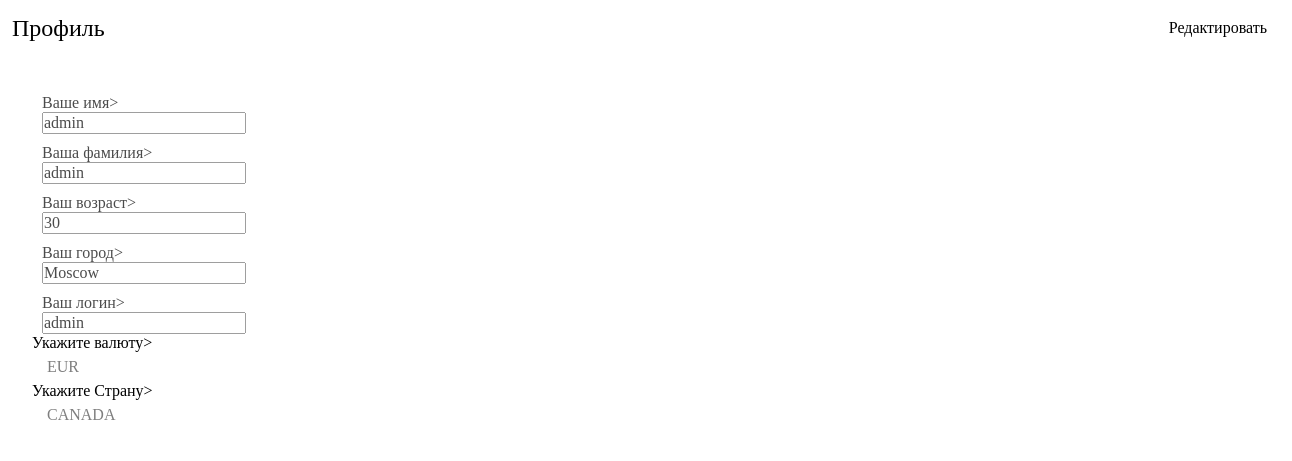
it: features/EditableProfileCard › Валидация на firstName
Click the button with test id "ProfilePageHeader.editBtn".
click(1218, 28)  # box [1154,12,1282,44]
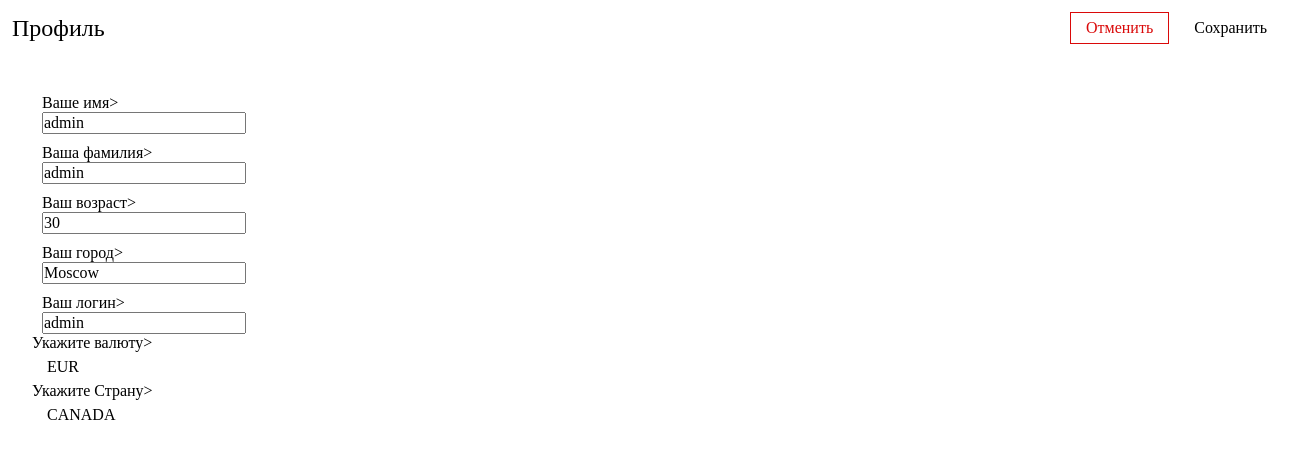
Clear the field with test id "ProfileCard.Input.firstname" at (144, 123), box [42,112,246,134]
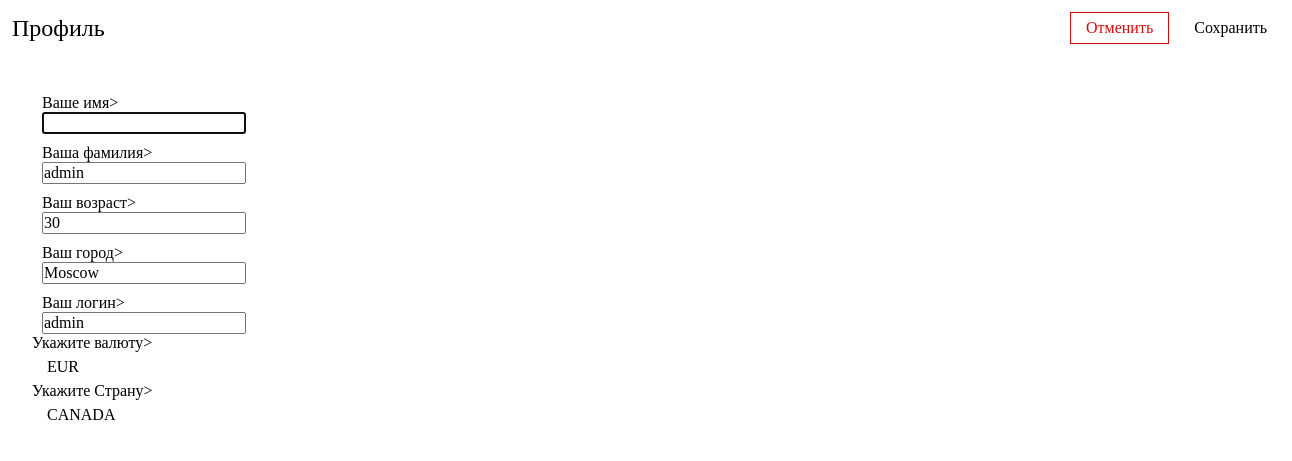
Click the button with test id "ProfilePageHeader.saveBtn".
click(1231, 28)  # box [1179,13,1282,43]
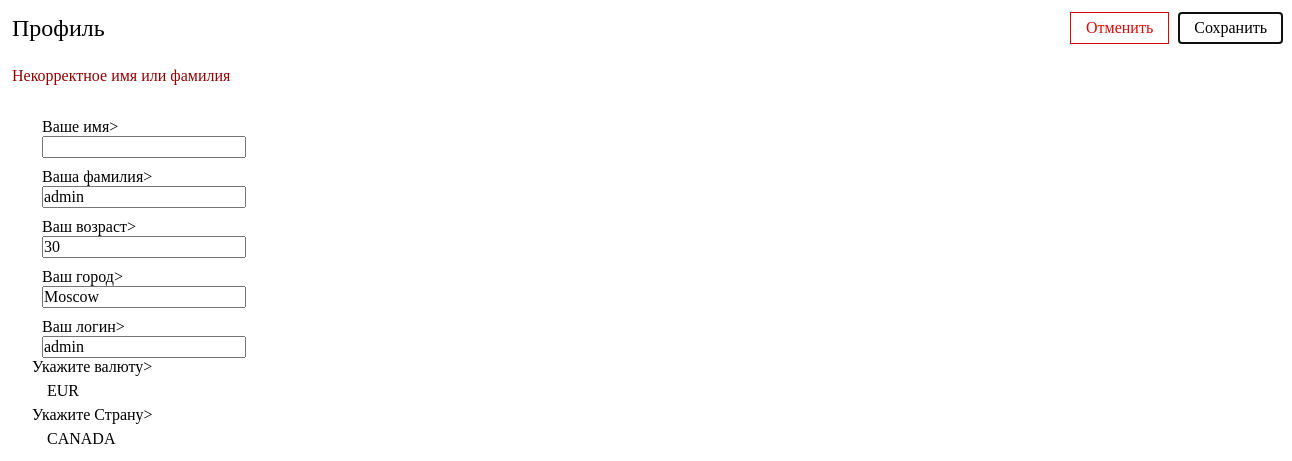
Result: the text "Некорректное имя или фамилия" is shown at [12,67,230,84]
